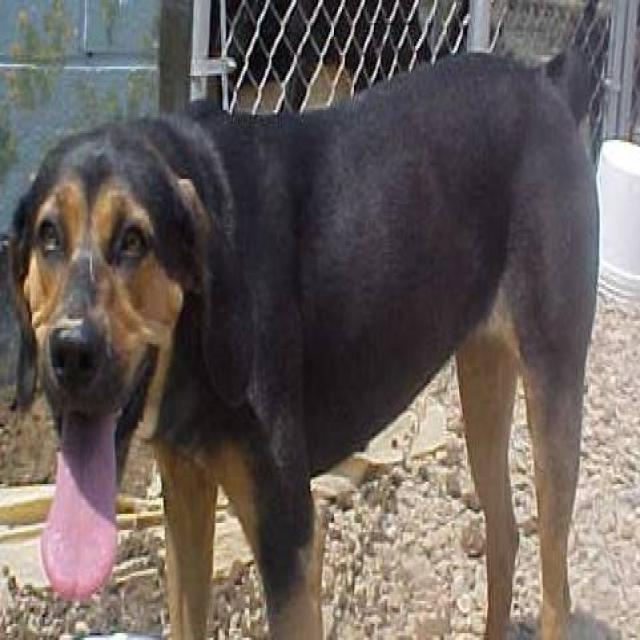dog: (2, 41, 602, 638)
